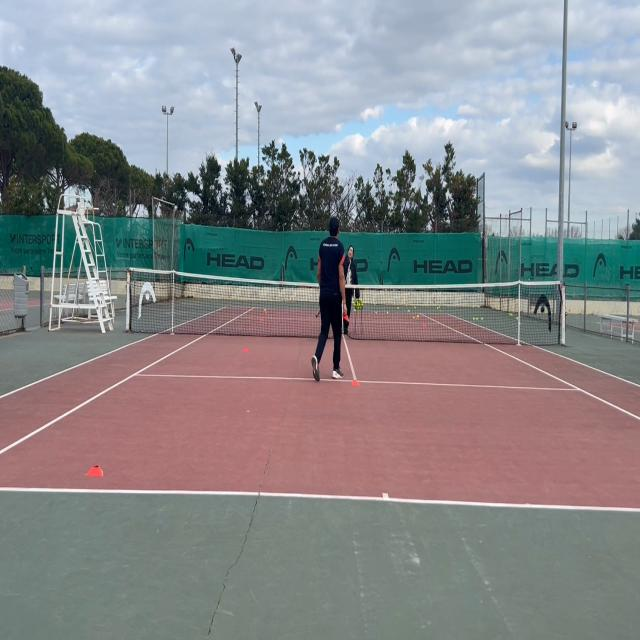ball: (510, 312, 513, 317), (508, 312, 511, 316), (516, 316, 518, 322), (375, 310, 377, 315), (481, 316, 483, 321), (438, 306, 441, 309), (264, 308, 266, 312), (354, 308, 356, 312), (386, 310, 388, 314), (397, 306, 399, 310), (408, 309, 410, 313), (417, 314, 419, 318), (478, 305, 480, 309), (473, 317, 475, 321), (476, 317, 478, 321), (374, 302, 376, 305), (414, 306, 416, 309), (413, 316, 415, 319), (436, 307, 438, 310), (472, 306, 474, 308), (406, 304, 407, 307)
